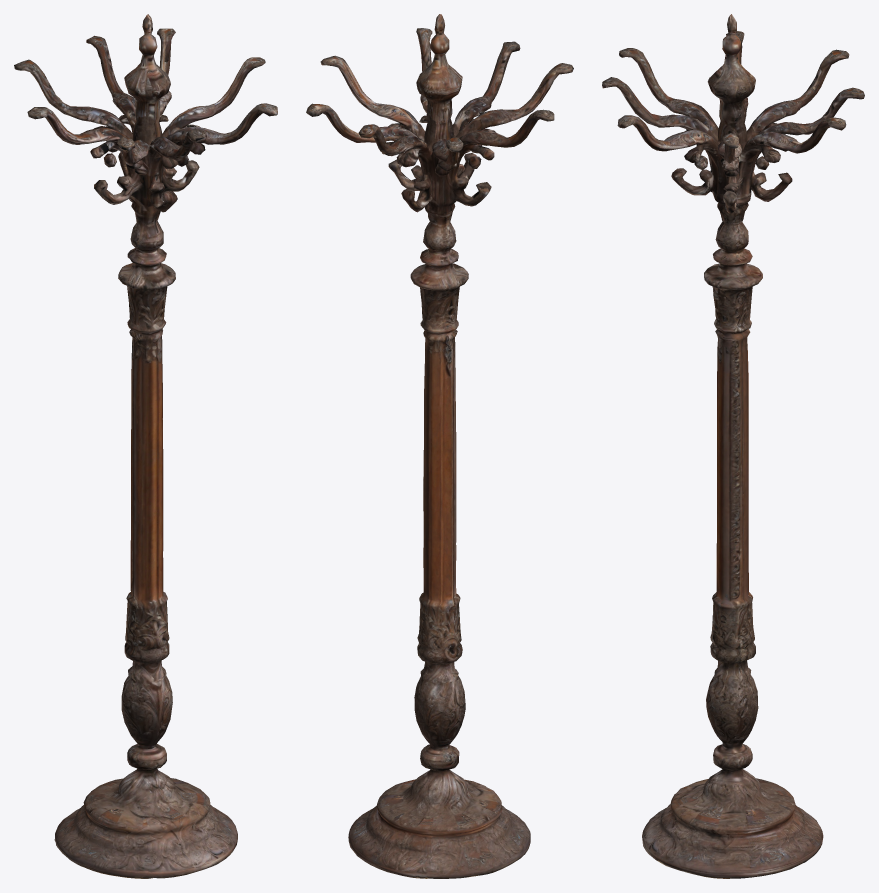
The model's file is meshy_model_1758340886.88417.glb.
The picture shows the model from 3 angles, left to right: view 1: azimuth 30°, elevation 25°; view 2: azimuth 150°, elevation 25°; view 3: azimuth 270°, elevation 25°; orthographic projection.
Size of the model in its own units: 0.5937 by 2.01 by 0.5782.
1 material, 1 textured.
